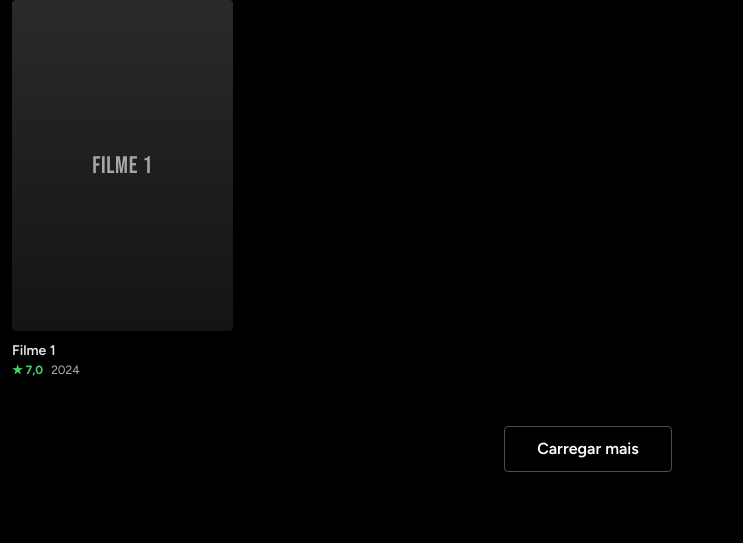
Test: MovieGrid › mostra erro e tenta de novo
Click the button "Carregar mais": (588, 449) [504,426,672,472]
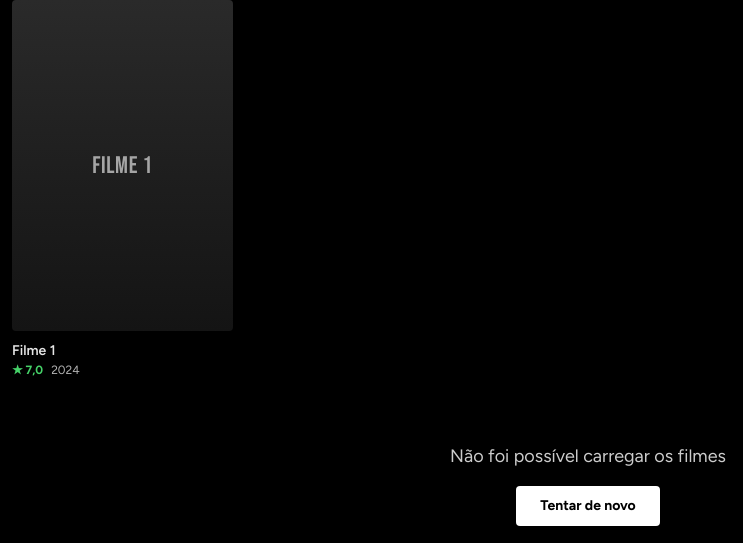
Expected: the text "Não foi possível carregar os filmes" is shown, [450,442,726,470]
Click the button "Tentar de novo": (588, 506) [516,486,660,526]
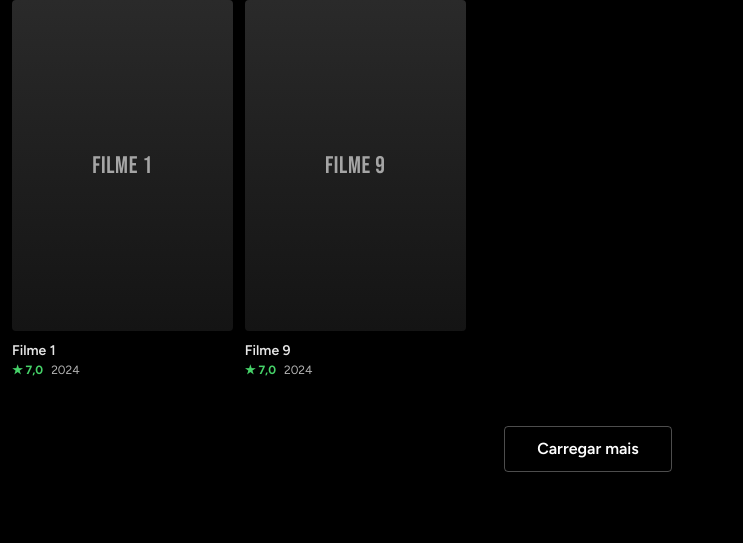
Expected: the heading "Filme 9" is shown, [245,342,290,359]
Expected: the button "Carregar mais" is shown, [504,426,672,472]
